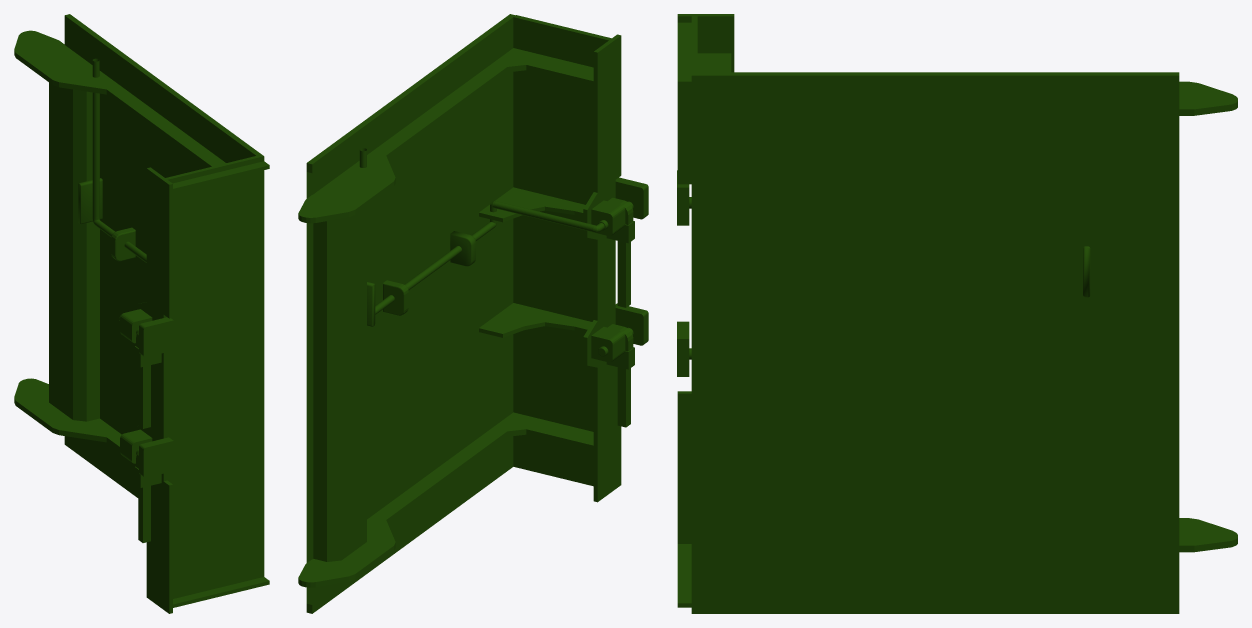
The model's file is debarker_door2.glb.
The picture shows the model from 3 angles, left to right: view 1: azimuth 30°, elevation 25°; view 2: azimuth 150°, elevation 25°; view 3: azimuth 270°, elevation 25°; orthographic projection. The views are drawn at different scales.
Parts seen in each view (by area): view 1: DOOR2; view 2: DOOR2; view 3: DOOR2.
Boxes of the visible parts, box(x1,y1,x2,y2) form: DOOR2: box(14, 14, 269, 613); DOOR2: box(298, 14, 648, 613); DOOR2: box(677, 14, 1237, 613).
Size of the model in its own units: 0.5183 by 1.67 by 1.58.
